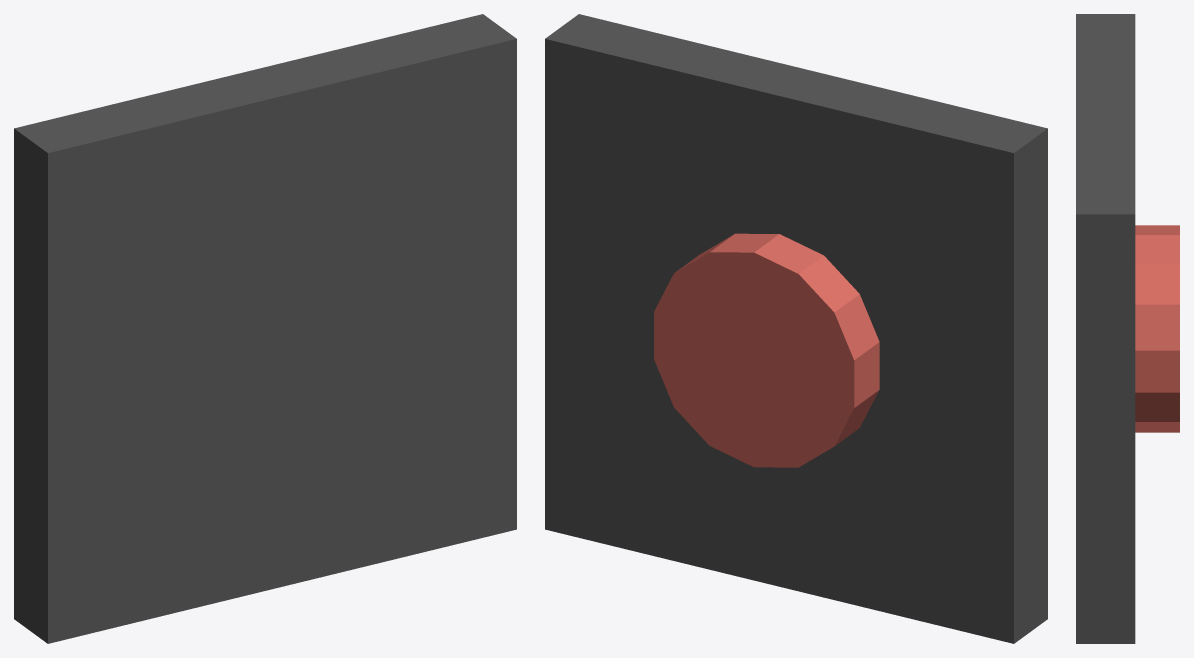
The model's file is lifebuoy_rack.glb.
3 renders of one model, left to right at view 1: azimuth 30°, elevation 25°; view 2: azimuth 150°, elevation 25°; view 3: azimuth 270°, elevation 25°, orthographic. The views are drawn at different scales.
Parts seen in each view (by area): view 1: rack; view 2: rack, buoyring; view 3: rack, buoyring.
Part boxes in pixels (left/top/right/bottom): rack: left=14, top=14, right=516, bottom=643; rack: left=545, top=14, right=1047, bottom=643; buoyring: left=654, top=233, right=879, bottom=467; rack: left=1076, top=14, right=1135, bottom=643; buoyring: left=1135, top=225, right=1179, bottom=432.
Size of the model in its own units: 1.6 by 1.6 by 0.3502.
